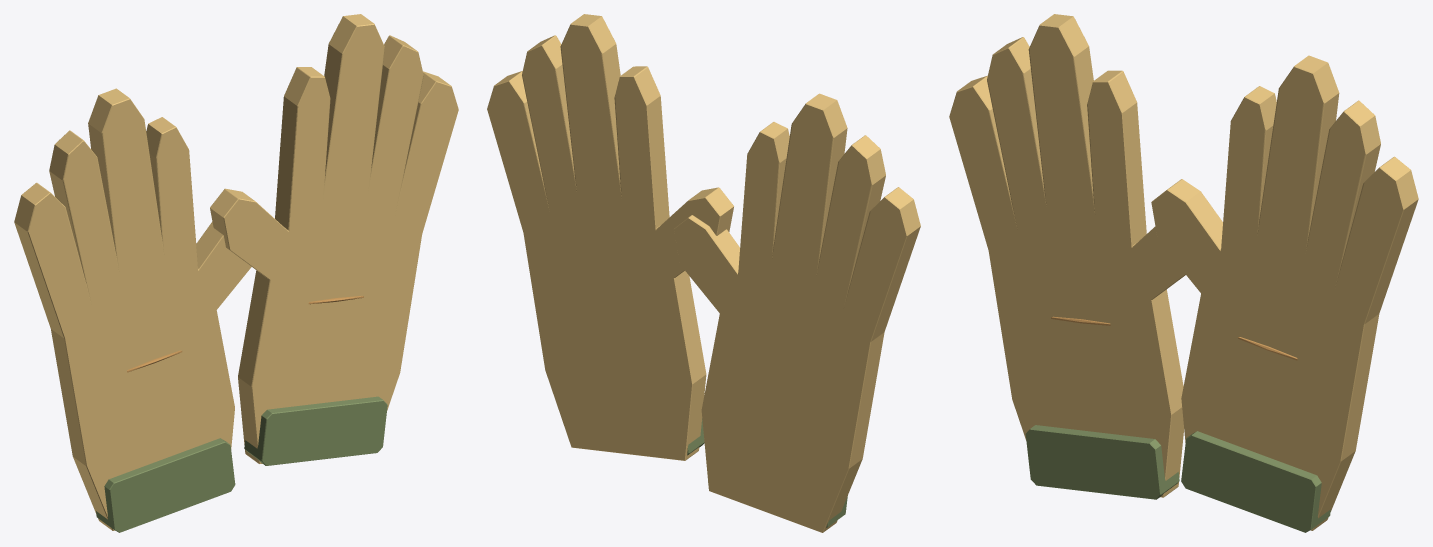
Rendered from garden_gloves.glb.
The picture shows the model from 3 angles, left to right: view 1: azimuth 30°, elevation 25°; view 2: azimuth 150°, elevation 25°; view 3: azimuth 330°, elevation 25°; orthographic projection. The views are drawn at different scales.
Visible parts, largest first — view 1: garden_gloves; view 2: garden_gloves; view 3: garden_gloves.
Part boxes in pixels (x1,y1,x2,y2): garden_gloves: [14, 14, 458, 532]; garden_gloves: [487, 14, 920, 532]; garden_gloves: [949, 14, 1418, 532].
Size of the model in its own units: 0.2586 by 0.26 by 0.0245.
